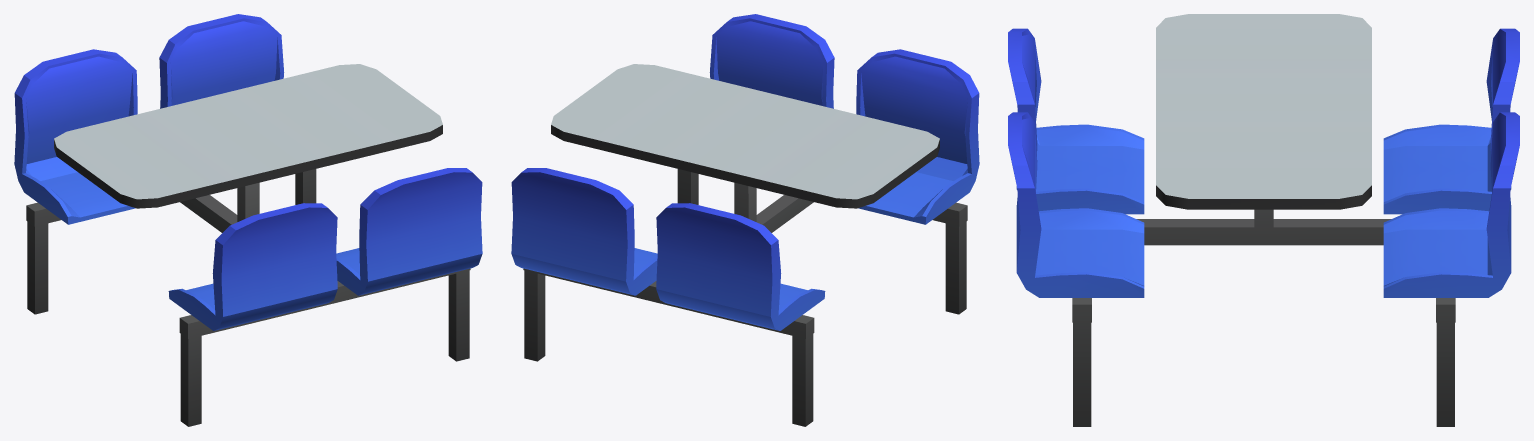
Rendered from Dining_Canteen_Table.fbx.
3 views of the same model, side by side, from view 1: azimuth 30°, elevation 25°; view 2: azimuth 150°, elevation 25°; view 3: azimuth 270°, elevation 25° (orthographic). The views are drawn at different scales.
Parts seen in each view (by area): view 1: Dining_Canteen_Table; view 2: Dining_Canteen_Table; view 3: Dining_Canteen_Table.
Boxes of the visible parts, x1,y1,x2,y2 form: Dining_Canteen_Table: (14,14,482,426); Dining_Canteen_Table: (511,14,979,426); Dining_Canteen_Table: (1008,14,1519,426).
Bounding box in the file's own units: 133 × 85.85 × 155.
